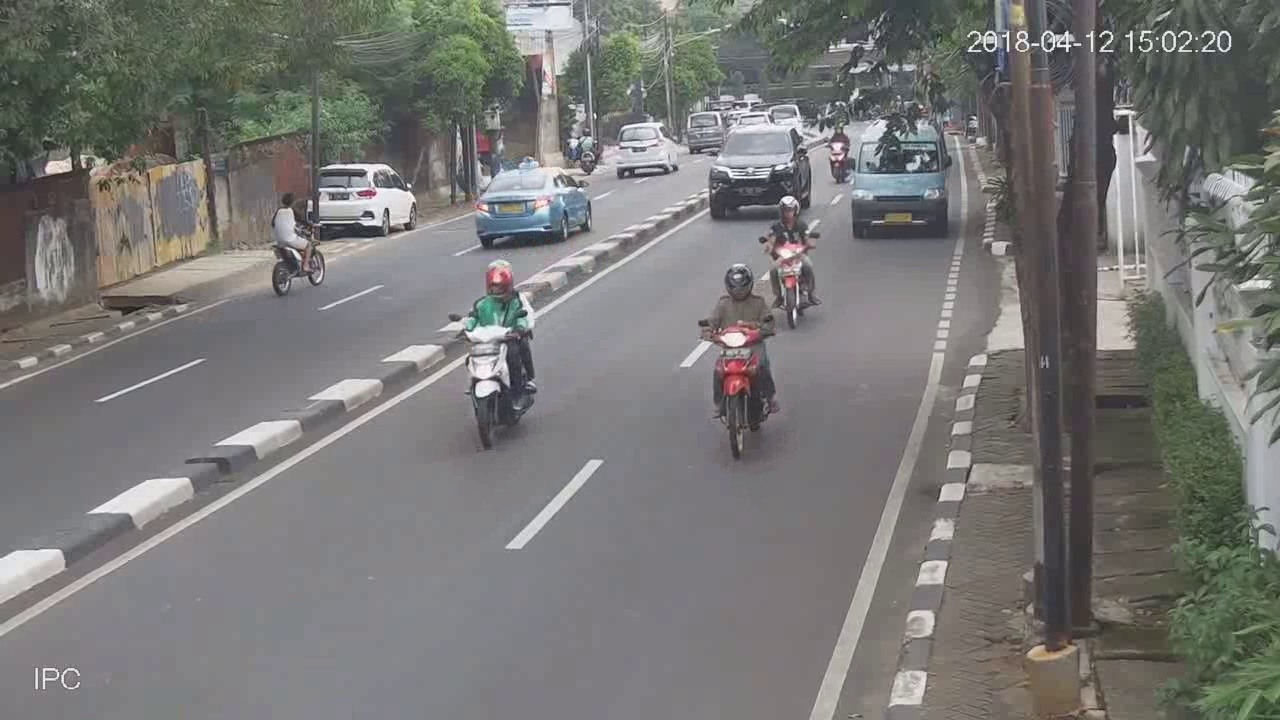car: (851, 119, 951, 236), (472, 165, 595, 247), (708, 124, 811, 219), (306, 161, 419, 237), (620, 122, 675, 180)
motorcycle: (448, 255, 540, 449), (701, 259, 781, 460), (762, 196, 821, 329), (266, 188, 327, 297), (829, 127, 854, 185)
